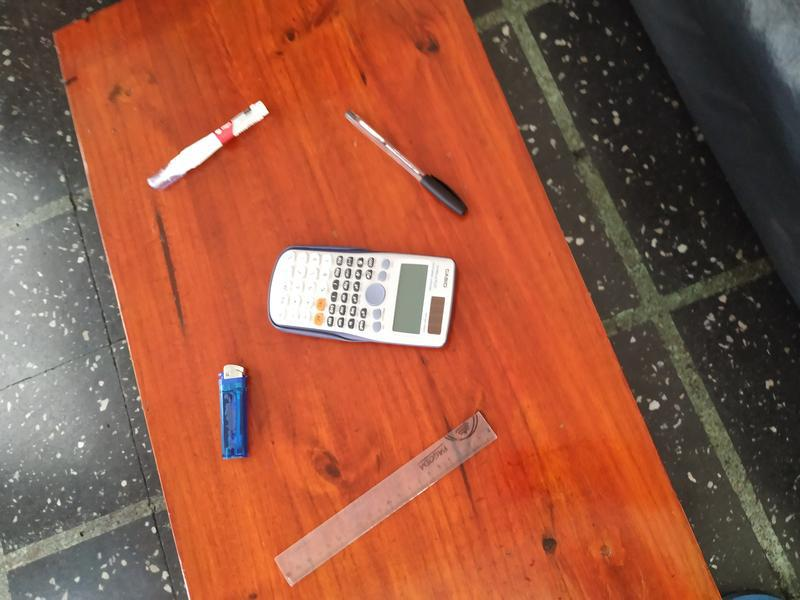calculadora: (263, 237, 461, 359)
corrector: (143, 92, 277, 203)
encendedor: (206, 355, 260, 472)
lapicera: (338, 91, 468, 220)
regla: (268, 402, 506, 583)
